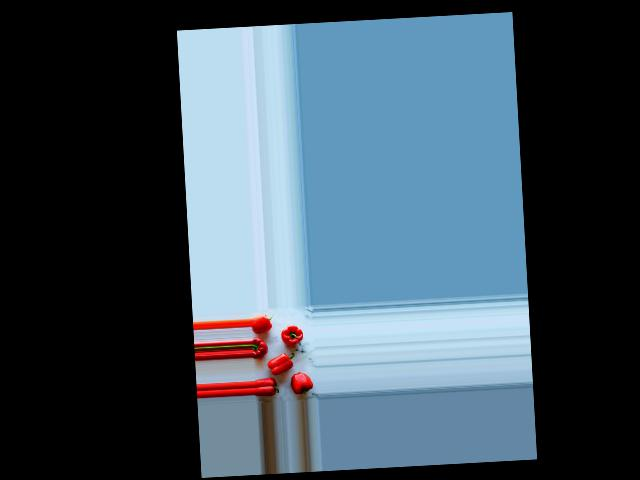bell_pepper: (252, 337, 269, 359)
